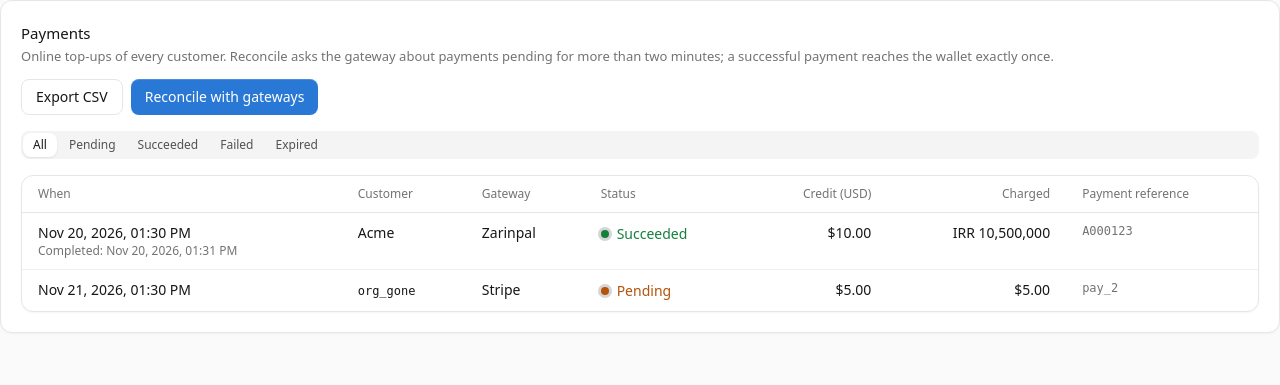
it: billing payments (card 25.1) › reconciles with the gateways and reports the outcome
This screenshot has width=1280, height=385.
Click the button "Reconcile with gateways": (225, 96) [131,78,318,114]
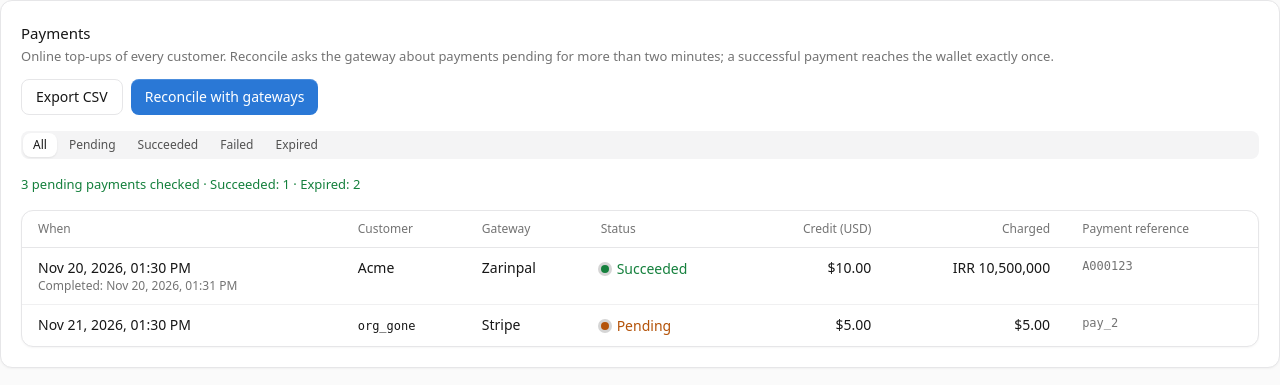
expect the text with test id "reconcile-result" reads "3 pending payments checked · Succeeded: 1 · Expired: 2": met, box [21,174,360,192]
